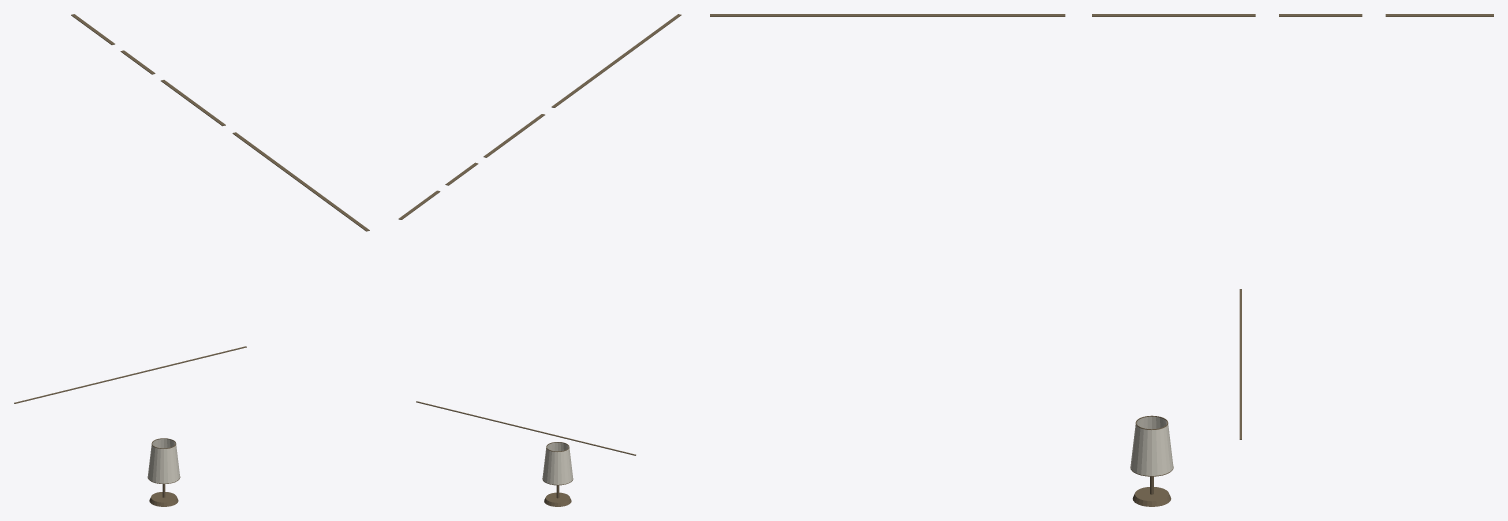
File: fixtures_v06c.glb
3 views of the same model, side by side, from view 1: azimuth 30°, elevation 25°; view 2: azimuth 150°, elevation 25°; view 3: azimuth 270°, elevation 25° (orthographic). The views are drawn at different scales.
Visible parts, largest first — view 1: VIS_FixtureCabinetStrip, VIS_FixtureBedsideSurface, VIS_FixtureBedside, VIS_FixtureDeskStrip; view 2: VIS_FixtureCabinetStrip, VIS_FixtureBedsideSurface, VIS_FixtureBedside, VIS_FixtureDeskStrip; view 3: VIS_FixtureBedsideSurface, VIS_FixtureCabinetStrip, VIS_FixtureBedside.
Boxes of the visible parts, x1,y1,x2,y2 form: VIS_FixtureCabinetStrip: (71, 14, 369, 231); VIS_FixtureBedsideSurface: (147, 439, 179, 483); VIS_FixtureBedside: (147, 438, 180, 506); VIS_FixtureDeskStrip: (14, 346, 246, 403); VIS_FixtureCabinetStrip: (398, 14, 681, 219); VIS_FixtureBedsideSurface: (542, 442, 573, 484); VIS_FixtureBedside: (542, 442, 573, 506); VIS_FixtureDeskStrip: (416, 401, 635, 455); VIS_FixtureBedsideSurface: (1130, 416, 1173, 475); VIS_FixtureCabinetStrip: (710, 14, 1493, 16); VIS_FixtureBedside: (1130, 415, 1173, 506).
Size of the model in its own units: 1.6 by 2.52 by 3.53.
